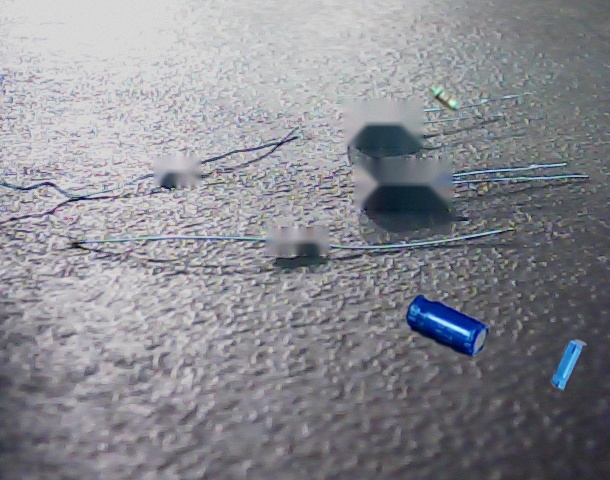capacitor: (405, 294, 489, 356), (551, 339, 588, 390)
resistor: (427, 82, 462, 115)
